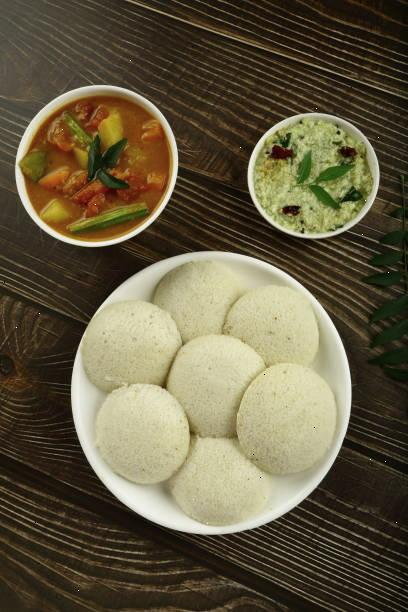coconut chutney: (245, 115, 377, 247)
idli: (92, 274, 344, 531)
sambhar: (3, 82, 177, 250)
